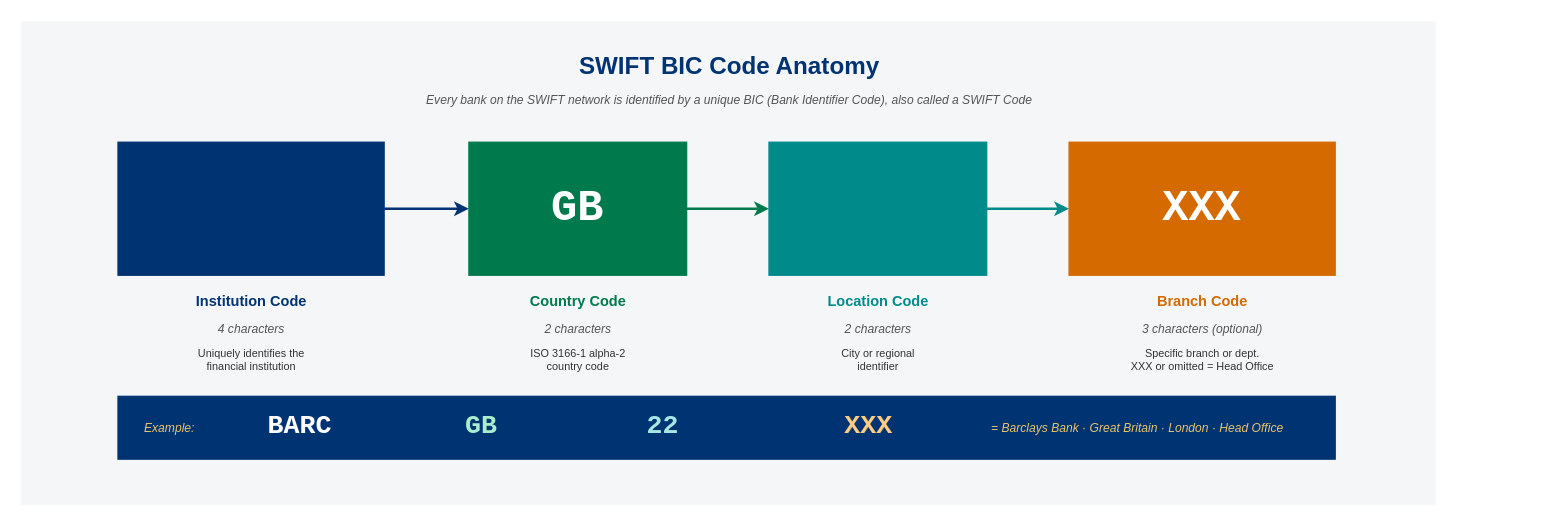
Image size: 1566x525. Some labels were removed from this diagram. The box of each missing label's shape, as (x1, y1, x2, y2) in pixels:
2L: (768, 141, 987, 275)
ABCD: (117, 141, 384, 275)
